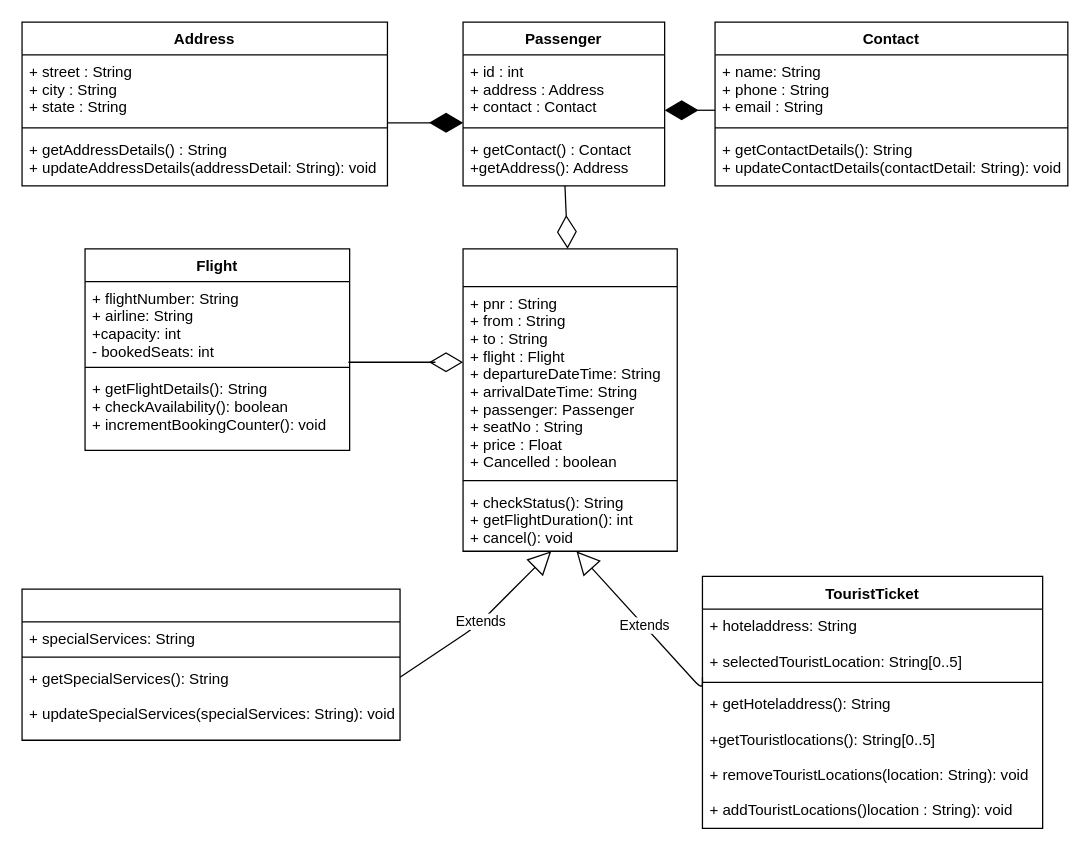
Image size: 1090x854. Some labels were removed from this diagram. The shapes that lost their labels are listed below. From the top down, each one's box as (x1, y1, x2, y2) in pixels, then its label:
(462, 248, 677, 551): Ticket
(21, 588, 400, 740): RegularTicket
